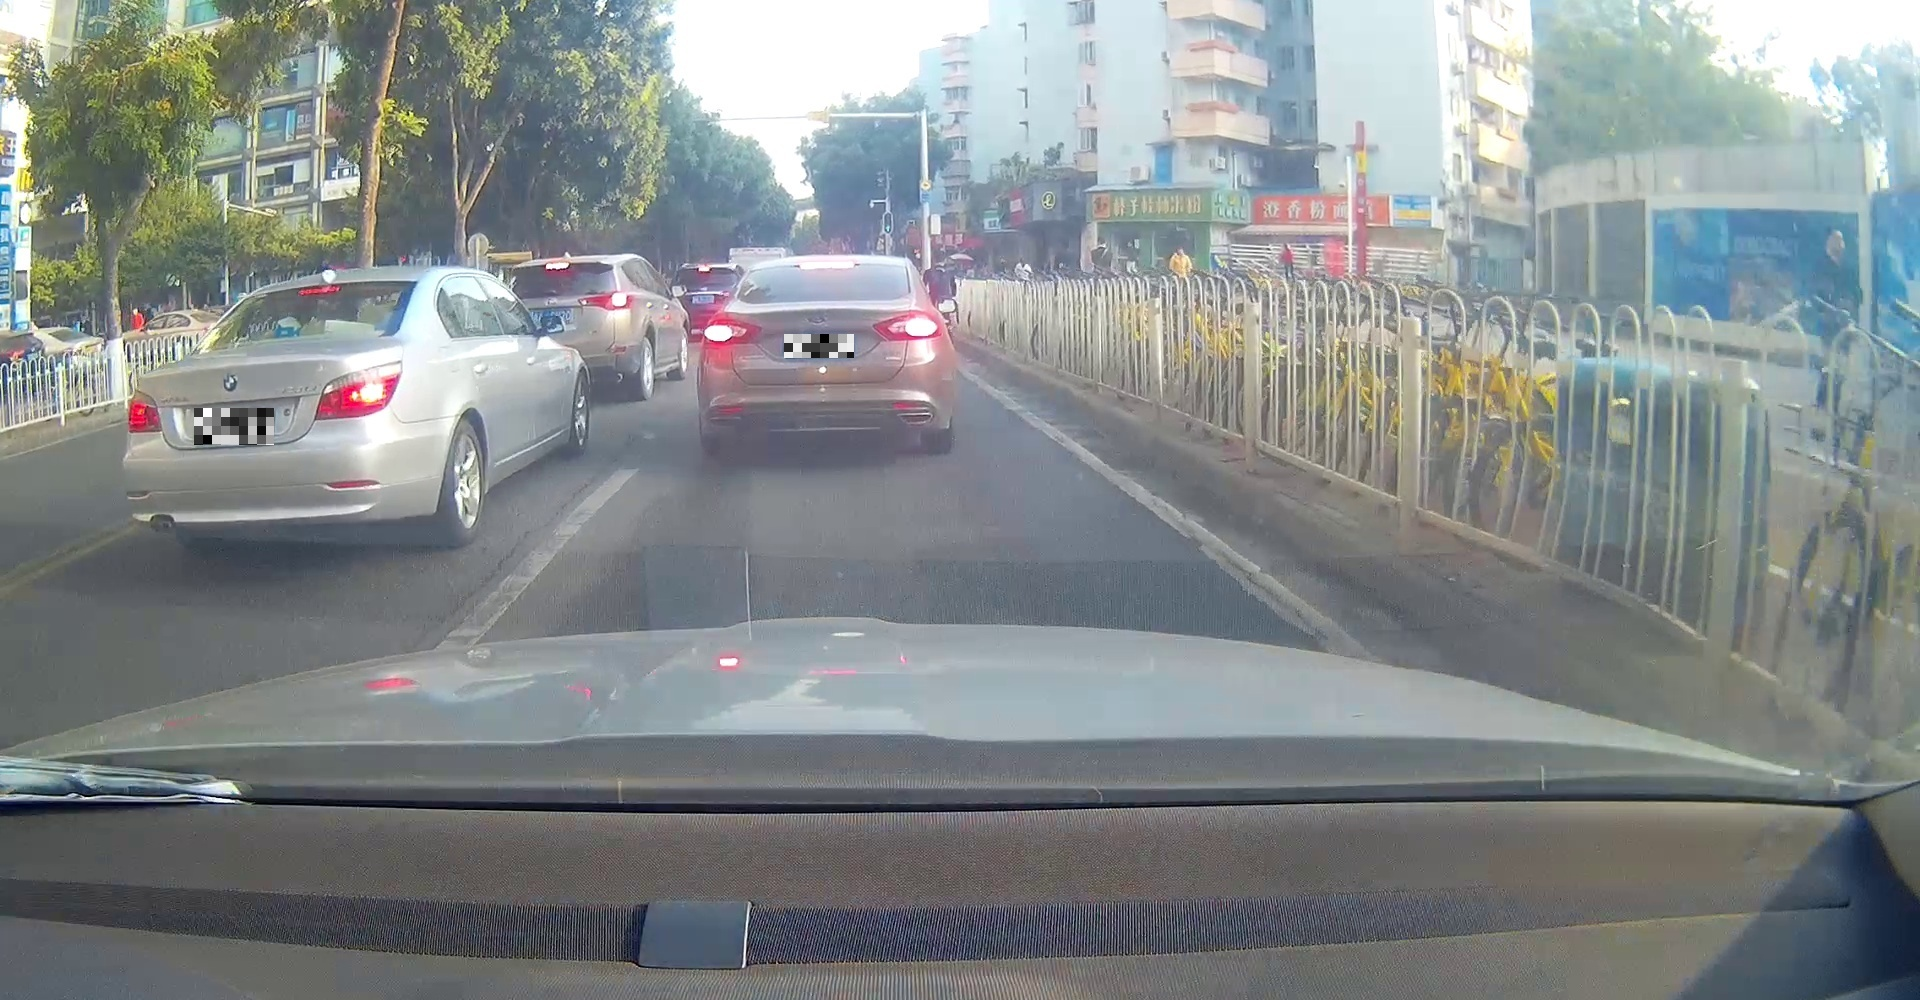L_light: (702, 319, 763, 346), (127, 390, 163, 433)
R_light: (314, 360, 404, 421), (871, 310, 943, 341)
T_light: (799, 261, 855, 270), (297, 286, 342, 296)
day-brake: (121, 266, 433, 547), (696, 255, 952, 456)
plate_1: (194, 409, 274, 445)
plate_2: (783, 334, 855, 358)
